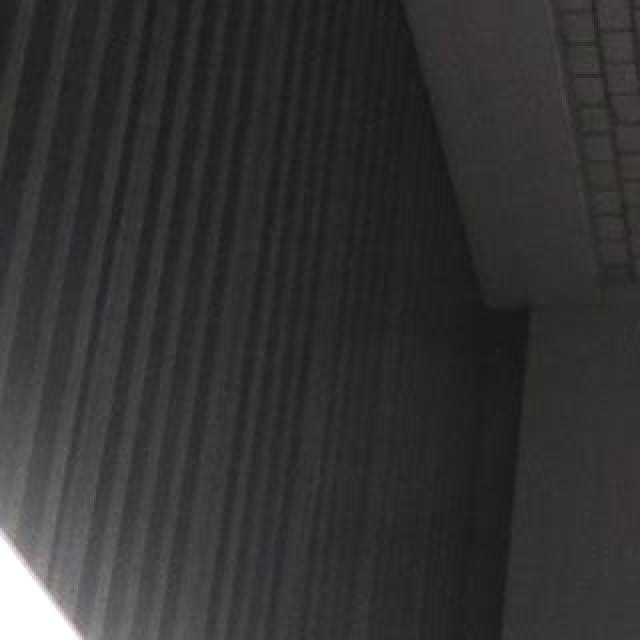fluorescent tube: (0, 100, 460, 640)
